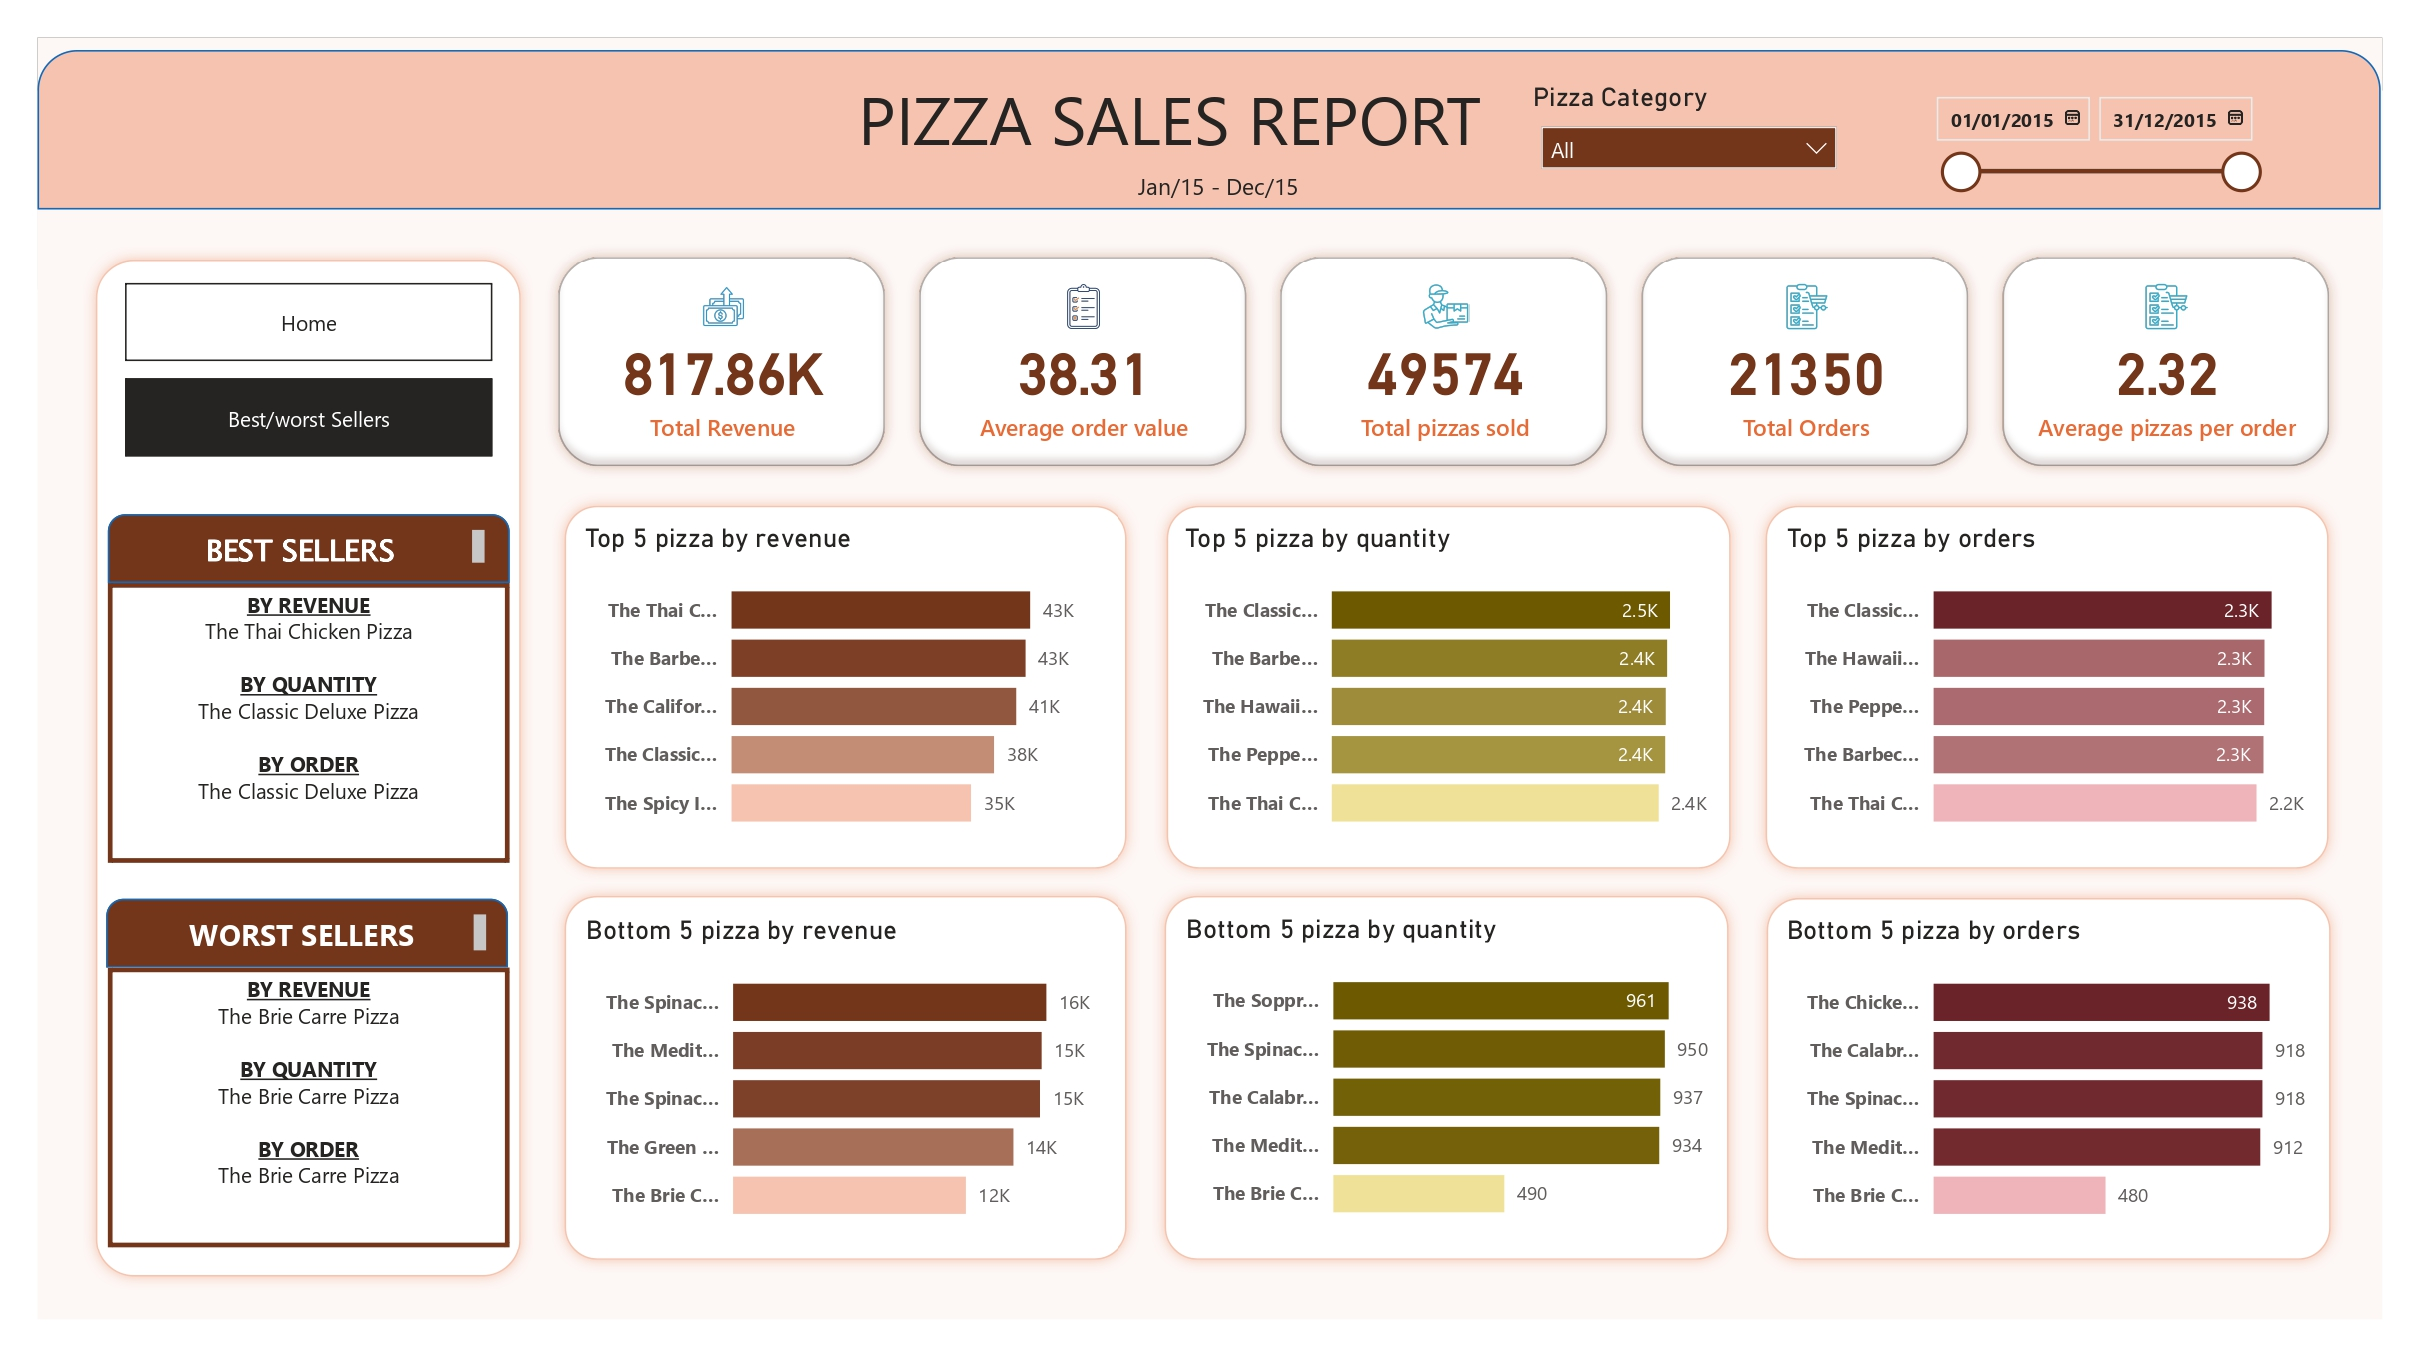

This screenshot's page, from the dashboard's own definition file:
{"tool":"powerbi","page":{"name":"Best/worst Sellers","canvas":[1500,820],"ordinal":1},"visuals":[{"type":"cardVisual","fields":{"Data":["pizza_sales.Total Revenue","pizza_sales.Average order value","pizza_sales.Total pizzas sold","pizza_sales.Total Orders","pizza_sales.Average pizzas per order"]},"box":[316.7,124.3,1168.6,165.7],"z":0},{"type":"shape","box":[0,8.4,1499.4,102],"z":1000},{"type":"shape","box":[713,541.4,377,249],"z":2000},{"type":"shape","box":[713.5,291.2,377,249],"z":3000},{"type":"textbox","box":[698.6,80,140,38.6],"z":4000},{"type":"shape","box":[28.6,134.3,288.6,667.1],"z":5000},{"type":"shape","box":[329.4,541.5,375.9,248.7],"z":6000},{"type":"shape","box":[329,291.4,375.9,248.7],"z":7000},{"type":"shape","box":[1097.8,541.6,376.9,248.6],"z":8000},{"type":"shape","box":[1097.3,291.4,376.9,248.6],"z":9000},{"type":"shape","box":[44.7,304.6,257.1,44.7],"z":10000},{"type":"textbox","box":[53.1,310.2,237.6,33.5],"z":11000},{"type":"shape","box":[44.7,349.4,257.1,178.9],"z":12000},{"type":"textbox","box":[44.7,349.4,257.1,166.3],"z":13000},{"type":"shape","box":[43.5,550.5,257.1,44.7],"z":14000},{"type":"shape","box":[44.7,595.3,257.1,178.9],"z":15000},{"type":"textbox","box":[44.7,595.3,257.1,174.7],"z":16000},{"type":"textbox","box":[54.5,556.2,237.6,33.5],"z":17000},{"type":"slicer","title":"Pizza Category","fields":{"Values":["pizza_sales.pizza_category"]},"box":[951.6,27.9,209.6,81.1],"z":18000},{"type":"slicer","title":"Pizza Category","fields":{"Values":["pizza_sales.order_date"]},"box":[1201.8,27.9,229.2,81.1],"z":19000},{"type":"barChart","title":"Top 5 pizza by revenue","fields":{"Category":["pizza_sales.pizza_name"],"Y":["pizza_sales.Total Revenue"]},"box":[345,310,343,210],"z":20000},{"type":"barChart","title":"Bottom 5 pizza by revenue","fields":{"Category":["pizza_sales.pizza_name"],"Y":["pizza_sales.Total Revenue"]},"box":[345.7,561.4,344.3,210],"z":21000},{"type":"barChart","title":"Top 5 pizza by quantity","fields":{"Category":["pizza_sales.pizza_name"],"Y":["pizza_sales.Total pizzas sold"]},"box":[728.6,310,344.3,210],"z":22000},{"type":"barChart","title":"Bottom 5 pizza by quantity","fields":{"Category":["pizza_sales.pizza_name"],"Y":["pizza_sales.Total pizzas sold"]},"box":[730,560,344.3,210],"z":23000},{"type":"barChart","title":"Top 5 pizza by orders","fields":{"Category":["pizza_sales.pizza_name"],"Y":["pizza_sales.Total Orders"]},"box":[1114.3,310,344.3,210],"z":24000},{"type":"barChart","title":"Bottom 5 pizza by orders","fields":{"Category":["pizza_sales.pizza_name"],"Y":["pizza_sales.Total Orders"]},"box":[1114.3,561.4,344.3,210],"z":25000},{"type":"pageNavigator","box":[55.9,156.5,234.8,50.3],"z":26000},{"type":"pageNavigator","box":[55.9,218,234.8,50.3],"z":27000},{"type":"textbox","box":[519.8,18.2,417.8,81.1],"z":28000}]}

Visuals, with their boxes on the page's 1500x820 design canvas (x1, y1, x2, y2). These are canvas units, not pixel positions in the 2420x1357 screenshot, which may show the page scaled, cropped or inside an application window:
cardVisual - pizza_sales.Total Revenue x pizza_sales.Average order value: <bbox>317, 124, 1485, 290</bbox>
shape: <bbox>0, 8, 1499, 110</bbox>
shape: <bbox>713, 541, 1090, 790</bbox>
shape: <bbox>714, 291, 1090, 540</bbox>
textbox: <bbox>699, 80, 839, 119</bbox>
shape: <bbox>29, 134, 317, 801</bbox>
shape: <bbox>329, 542, 705, 790</bbox>
shape: <bbox>329, 291, 705, 540</bbox>
shape: <bbox>1098, 542, 1475, 790</bbox>
shape: <bbox>1097, 291, 1474, 540</bbox>
shape: <bbox>45, 305, 302, 349</bbox>
textbox: <bbox>53, 310, 291, 344</bbox>
shape: <bbox>45, 349, 302, 528</bbox>
textbox: <bbox>45, 349, 302, 516</bbox>
shape: <bbox>44, 550, 301, 595</bbox>
shape: <bbox>45, 595, 302, 774</bbox>
textbox: <bbox>45, 595, 302, 770</bbox>
textbox: <bbox>54, 556, 292, 590</bbox>
"Pizza Category" slicer: <bbox>952, 28, 1161, 109</bbox>
"Pizza Category" slicer: <bbox>1202, 28, 1431, 109</bbox>
"Top 5 pizza by revenue" barChart: <bbox>345, 310, 688, 520</bbox>
"Bottom 5 pizza by revenue" barChart: <bbox>346, 561, 690, 771</bbox>
"Top 5 pizza by quantity" barChart: <bbox>729, 310, 1073, 520</bbox>
"Bottom 5 pizza by quantity" barChart: <bbox>730, 560, 1074, 770</bbox>
"Top 5 pizza by orders" barChart: <bbox>1114, 310, 1459, 520</bbox>
"Bottom 5 pizza by orders" barChart: <bbox>1114, 561, 1459, 771</bbox>
pageNavigator: <bbox>56, 156, 291, 207</bbox>
pageNavigator: <bbox>56, 218, 291, 268</bbox>
textbox: <bbox>520, 18, 938, 99</bbox>
